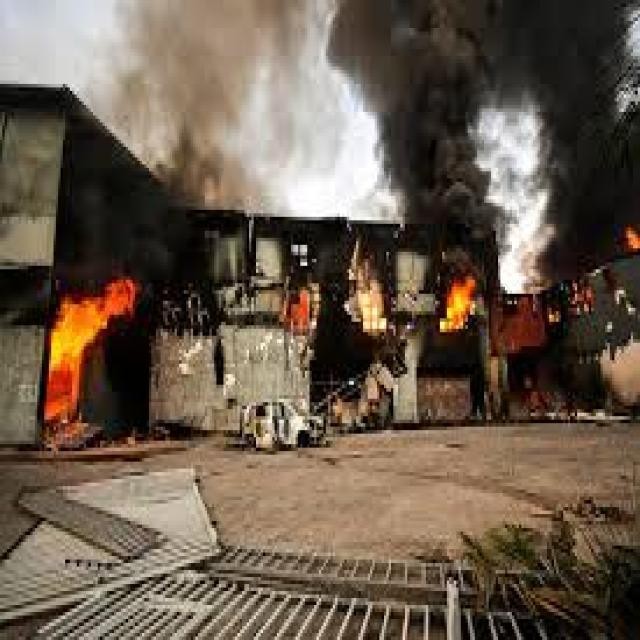Fire: (43, 290, 92, 424), (440, 270, 480, 333), (94, 275, 138, 328), (624, 226, 640, 254)
Smoke: (122, 0, 336, 216), (336, 0, 496, 216), (495, 0, 640, 115), (535, 112, 640, 270)
